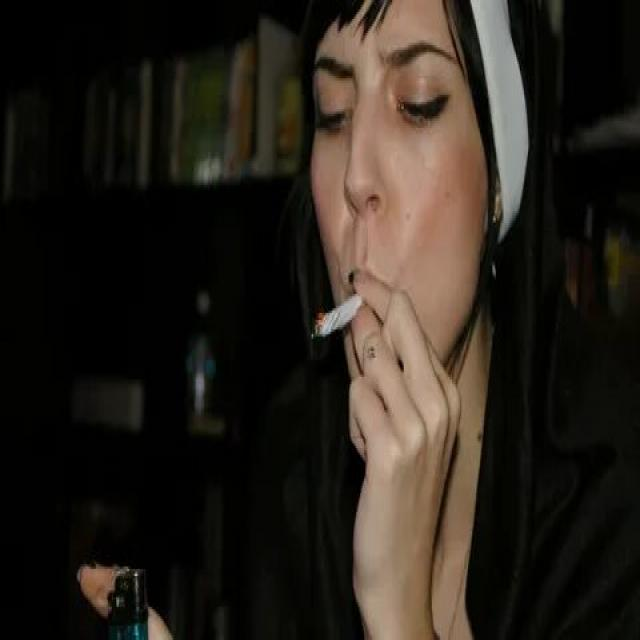smoke: (310, 287, 366, 346)
